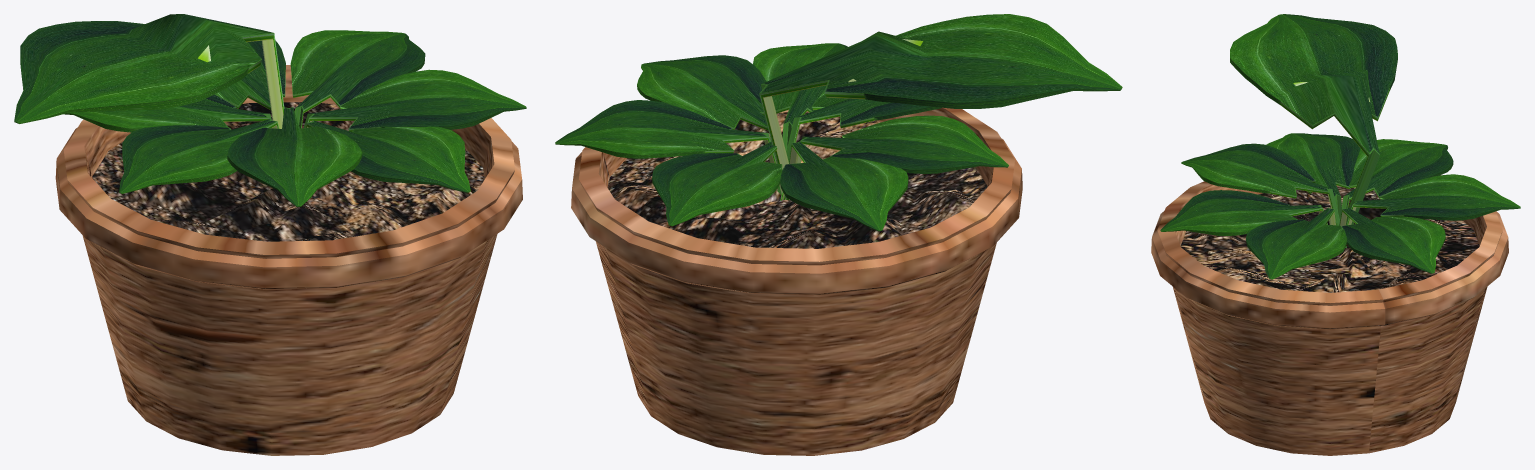
The model's file is Plant2.fbx.
The picture shows the model from 3 angles, left to right: view 1: azimuth 30°, elevation 25°; view 2: azimuth 150°, elevation 25°; view 3: azimuth 270°, elevation 25°; orthographic projection. The views are drawn at different scales.
Parts seen in each view (by area): view 1: polySurface9; view 2: polySurface9; view 3: polySurface9.
Part boxes in pixels (x1=…): polySurface9: x1=14, y1=14, x2=526, y2=455; polySurface9: x1=555, y1=14, x2=1122, y2=455; polySurface9: x1=1151, y1=14, x2=1520, y2=455.
Size of the model in its own units: 5.56 by 4.03 by 4.59.
Materials: 4 (4 with a texture image).
